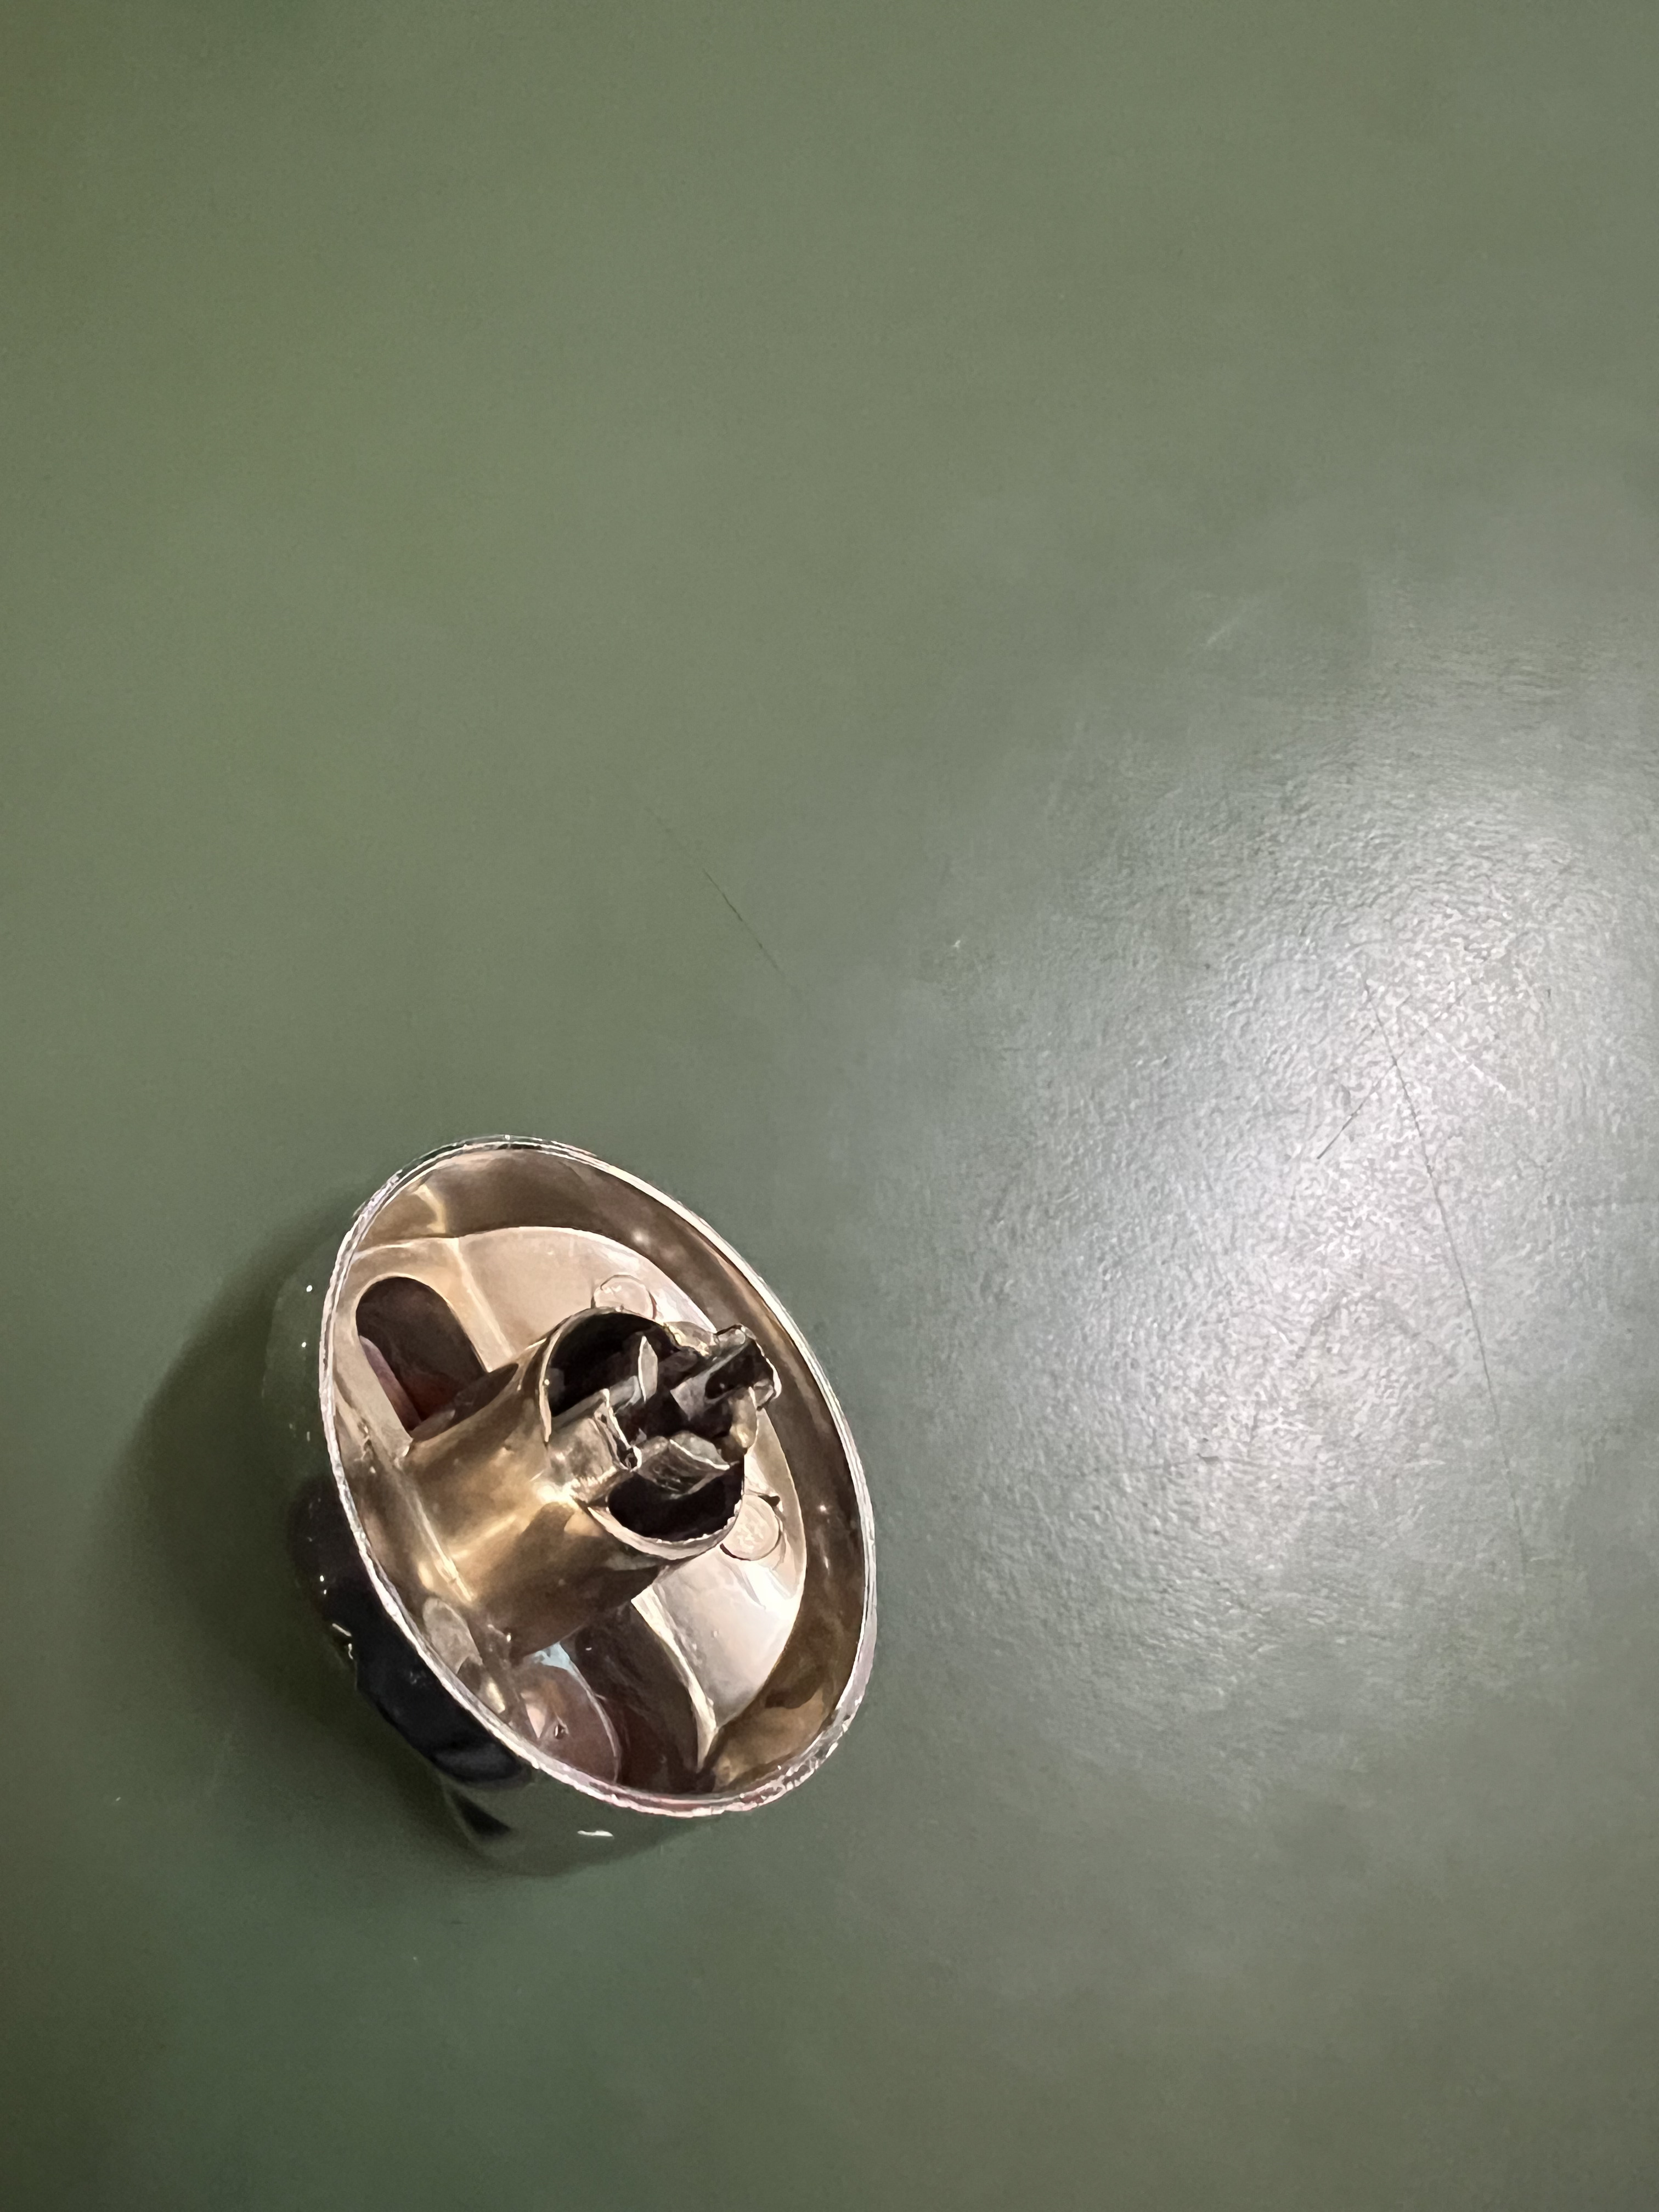regulator: (263, 1130, 884, 1855)
